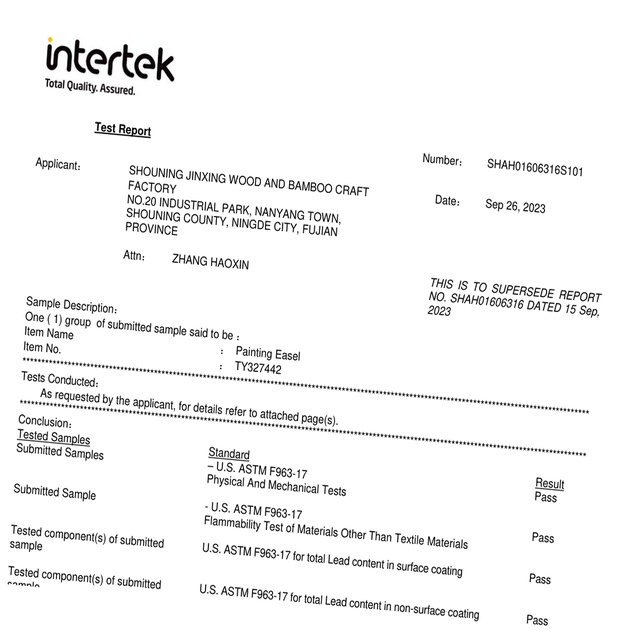intertek: (42, 33, 179, 88)
